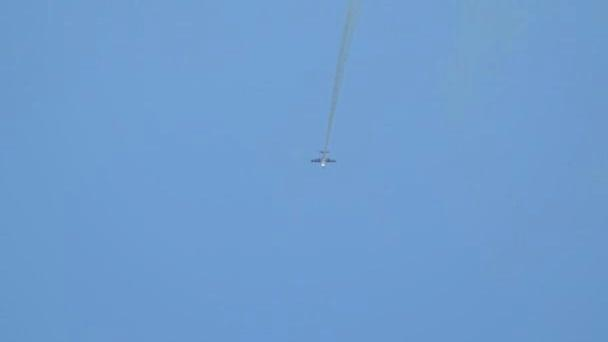Plane: (298, 146, 348, 174)
